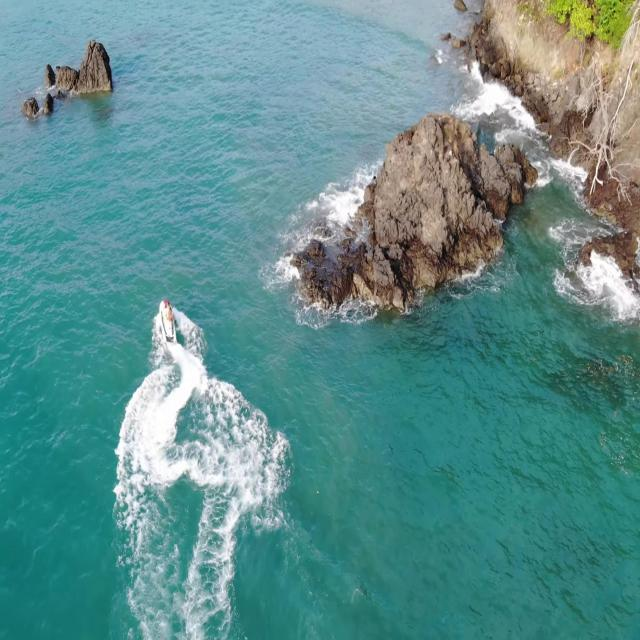boat: (158, 298, 180, 344)
